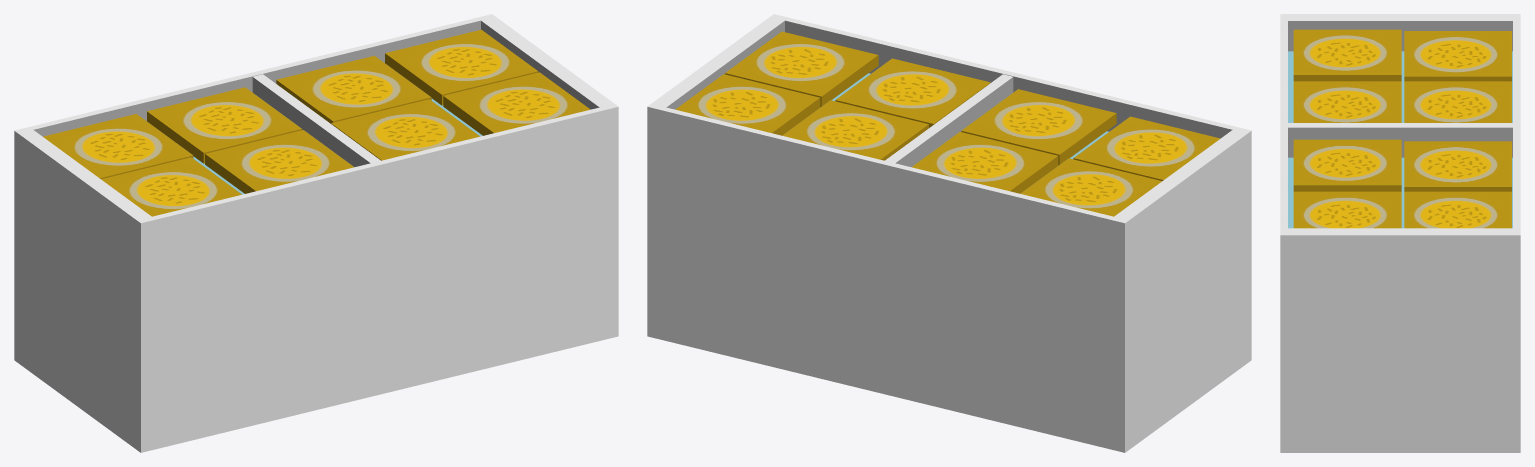
The model's file is cheese_pizza_box.gltf.
3 views of the same model, side by side, from view 1: azimuth 30°, elevation 25°; view 2: azimuth 150°, elevation 25°; view 3: azimuth 270°, elevation 25° (orthographic). The views are drawn at different scales.
Parts seen in each view (by area): view 1: Cube.035; view 2: Cube.035; view 3: Cube.035.
Part boxes in pixels (<box>): Cube.035: <box>14,14,618,452</box>; Cube.035: <box>647,14,1251,452</box>; Cube.035: <box>1280,14,1520,452</box>.
Size of the model in its own units: 9.22 by 4.23 by 4.23.
Materials: 2 (2 with a texture image).
